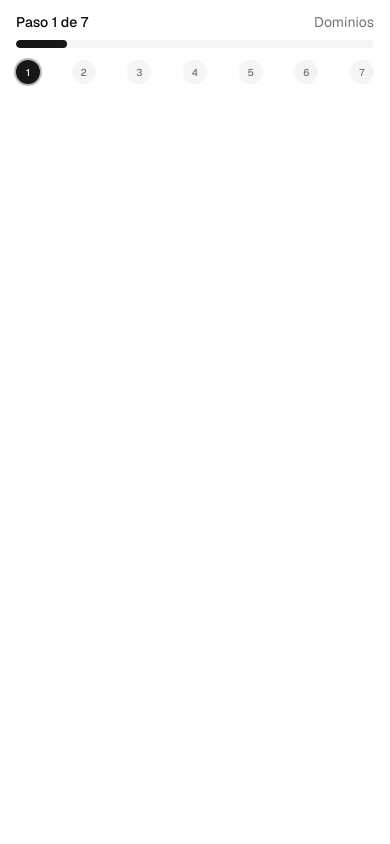
Test: WizardProgress › Unsaved changes behavior › shows unsaved changes dialog when navigating with dirty state
// Navigate to any step
Click the button named "Puntajes" at {"x": 84, "y": 72}, box [72,60,96,84]
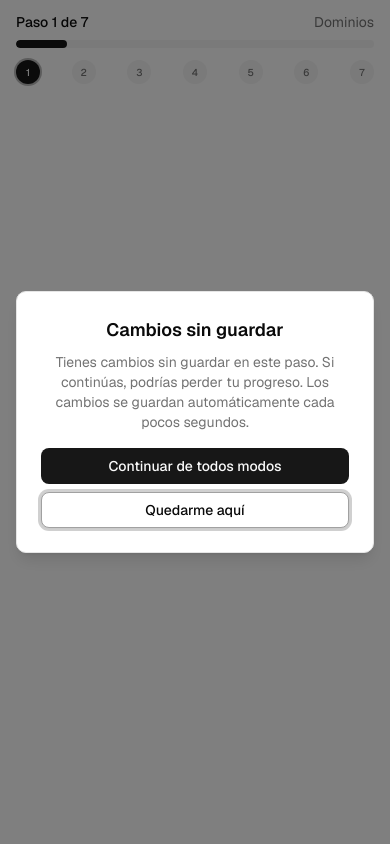
Check: the heading "Cambios sin guardar" is shown, box [106,318,284,341]
